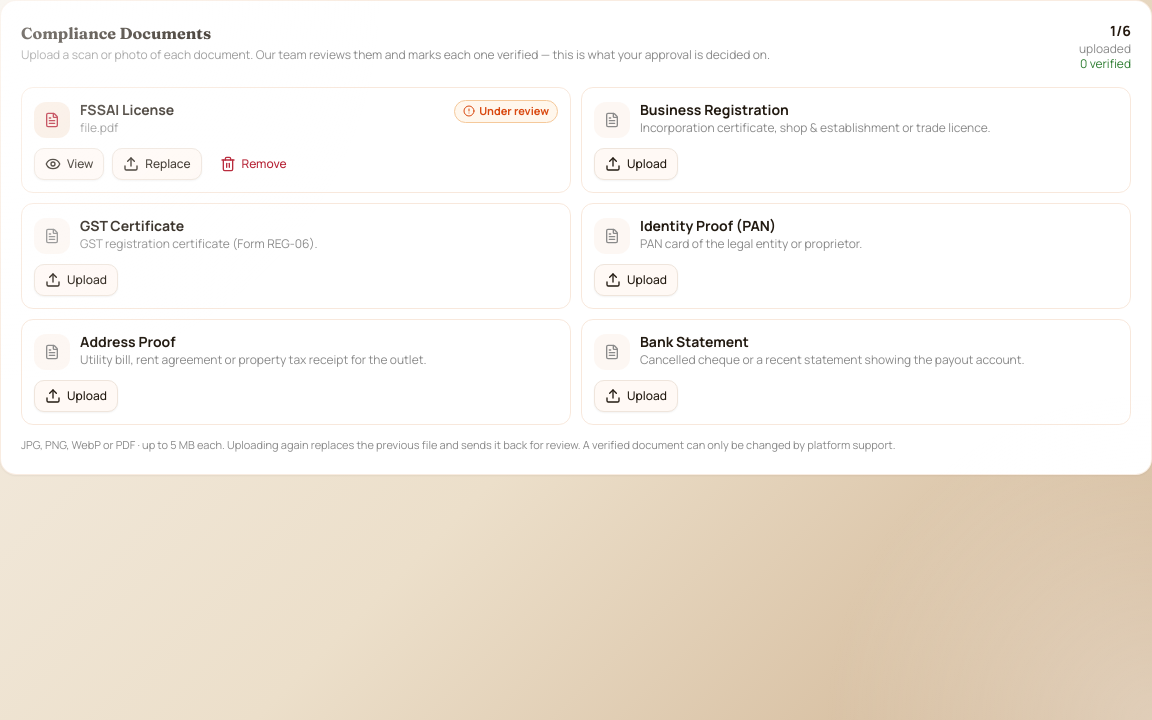
Test: ComplianceDocuments remove › does not remove after clicking the backdrop
The image size is (1152, 720).
Step 1. Click the button "Remove" → (253, 164), box [210, 148, 296, 180]
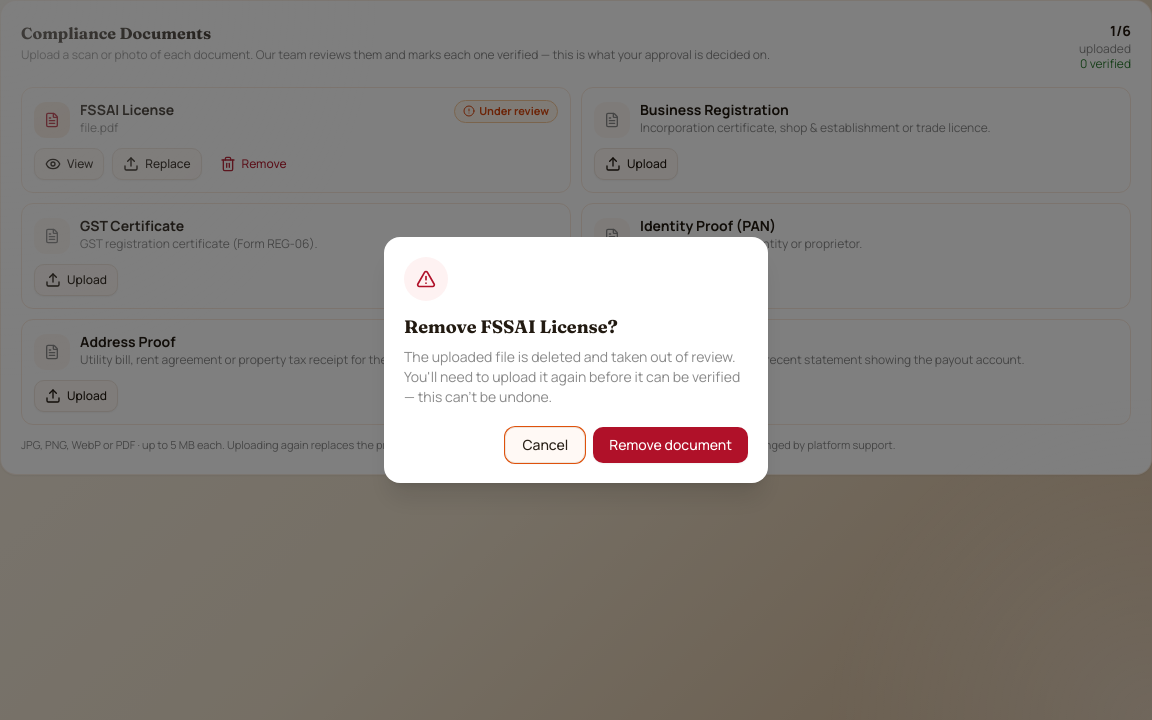
Step 2. Click the element with test id "confirm-dialog-backdrop" → (69, 360), box [0, 0, 1151, 719]
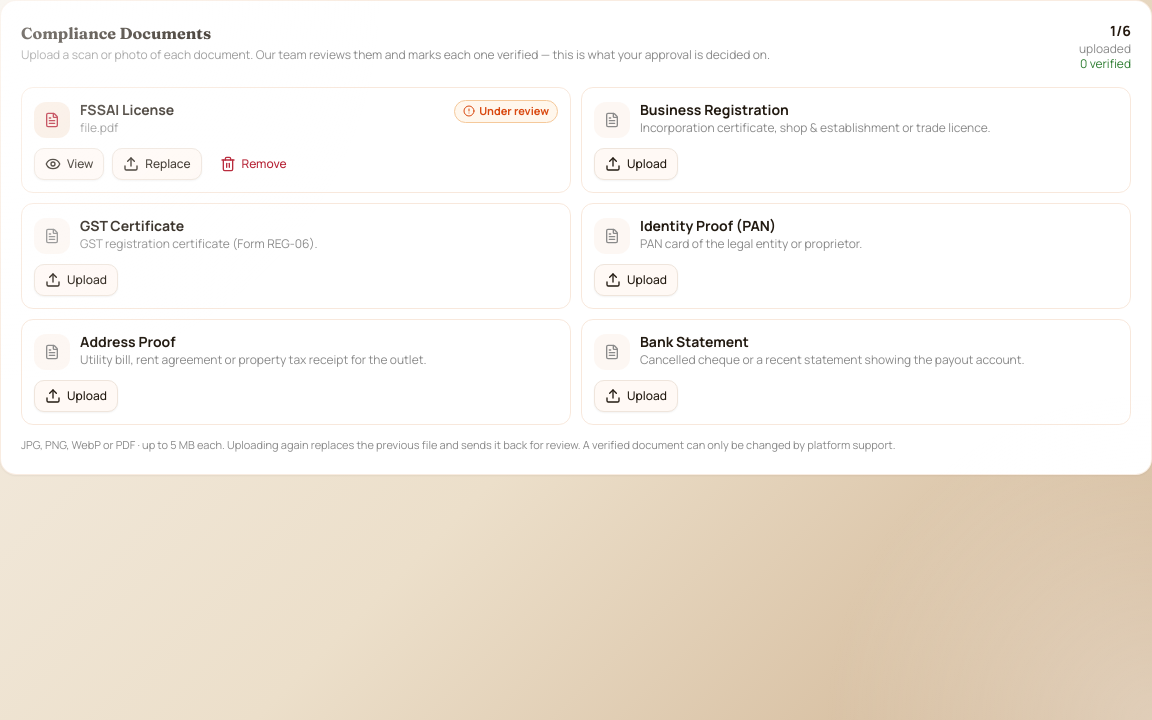
Check: the dialog is gone
